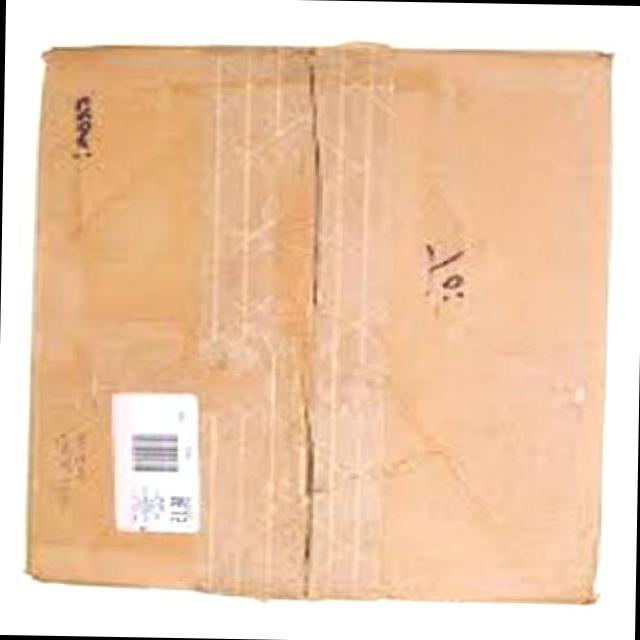box: (25, 51, 613, 604)
